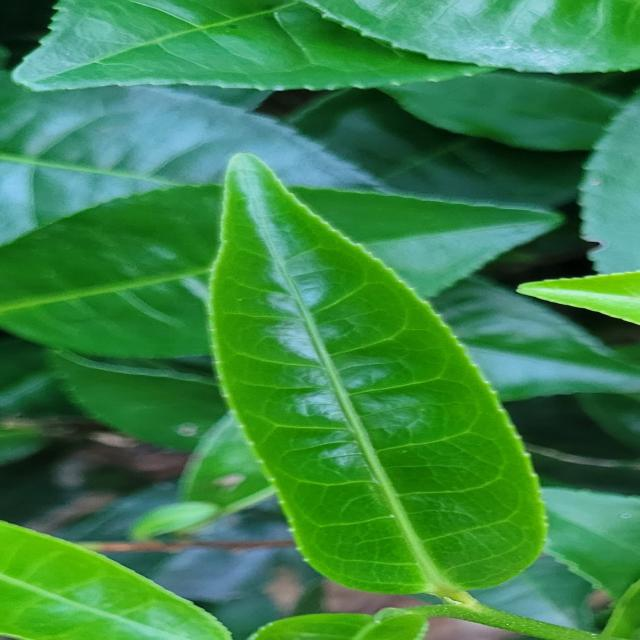Catagory A(1-2 days): (142, 142, 566, 622)
